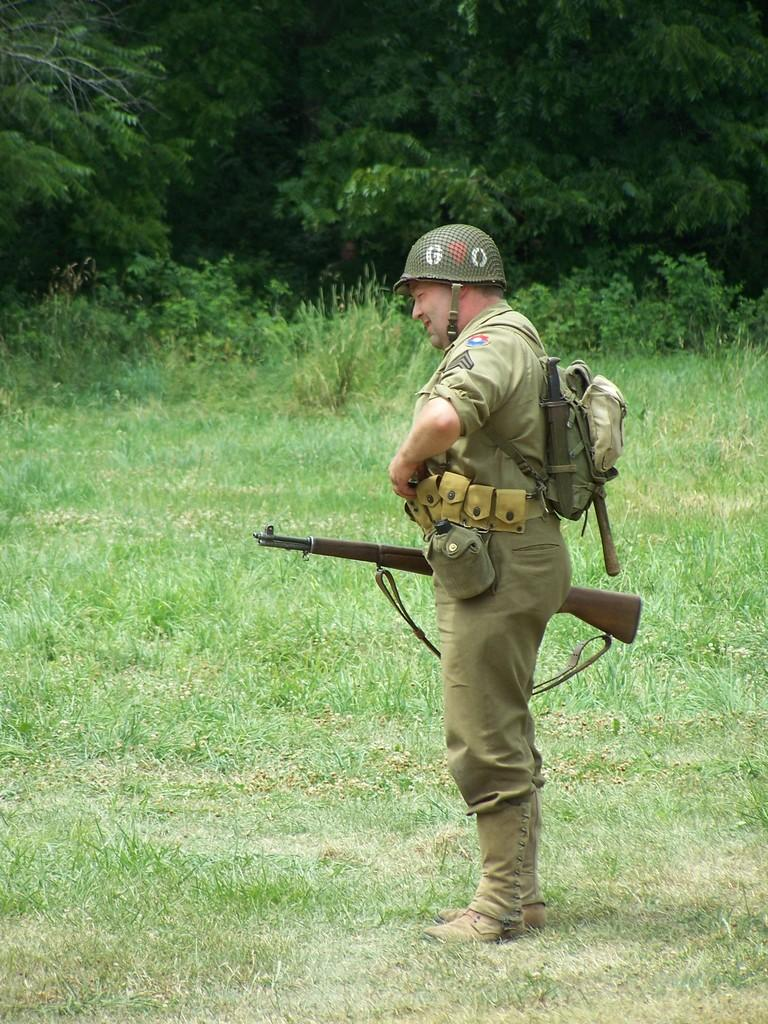Rifle: (259, 528, 640, 644)
